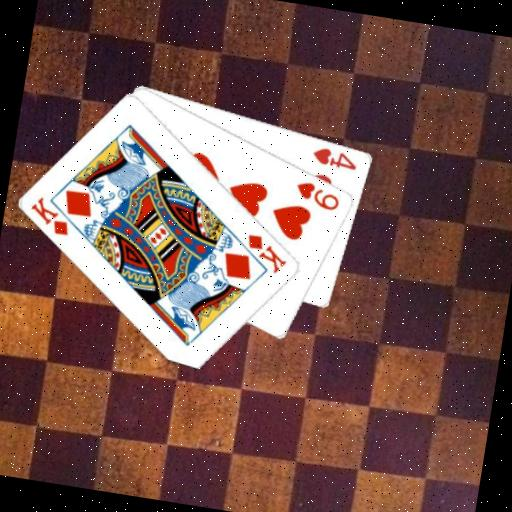4H: (308, 142, 360, 172)
9H: (291, 176, 344, 212)
KD: (239, 230, 292, 277), (23, 191, 75, 238)
